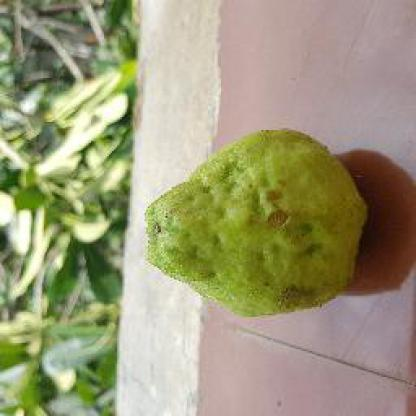guava: (142, 127, 368, 318)
